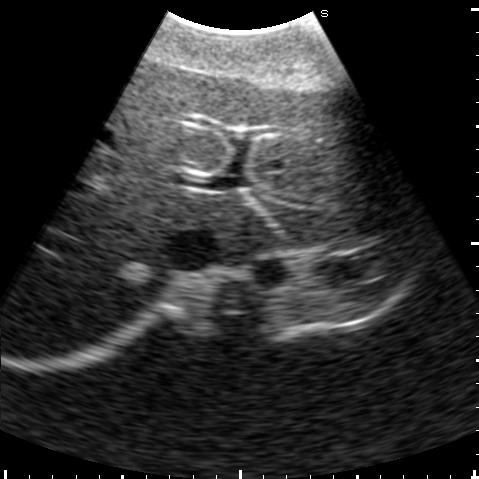IVC: (160, 227, 226, 271)
S1: (211, 195, 275, 256)
S2: (252, 187, 414, 246)
S3: (235, 81, 407, 207)
